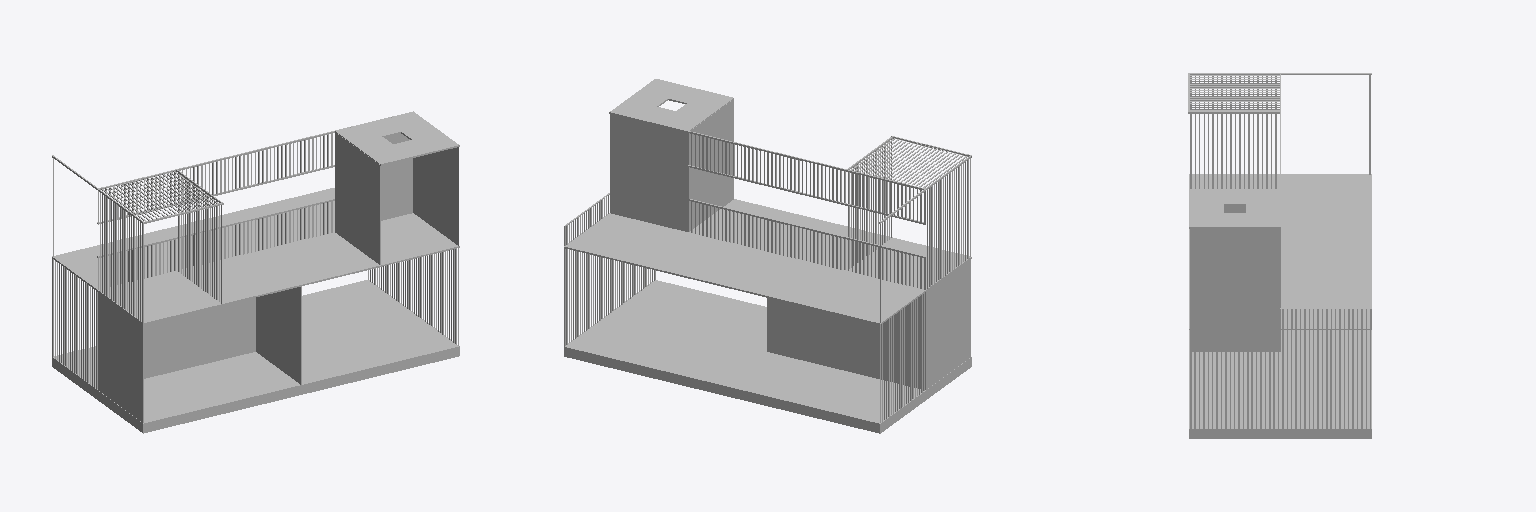
Rendered from shelf.obj.
The picture shows the model from 3 angles: view 1: azimuth 30°, elevation 25°; view 2: azimuth 150°, elevation 25°; view 3: azimuth 270°, elevation 25°; orthographic projection.
Parts seen in each view (by area): view 1: Cube, Cube.019, Cube.003, Cube.005, Cube.001, Cube.004, Cube.002, Cube.007, Cube.008, Cube.009, Cube.010, Cube.023 (+5 smaller); view 2: Cube, Cube.019, Cube.006, Cube.003, Cube.001, Cube.005, Cube.007, Cube.008, Cube.023, Cube.021, Cube.009, Cube.010 (+5 smaller); view 3: Cube.019, Cube, Cube.004, Cube.008, Cube.007, Cube.016, Cube.018, Cube.002, Cube.014.
Boxes of the visible parts, x1,y1,x2,y2 form: Cube: [52, 280, 459, 433]; Cube.019: [52, 188, 459, 324]; Cube.003: [144, 298, 255, 378]; Cube.005: [335, 132, 380, 264]; Cube.001: [98, 292, 143, 422]; Cube.004: [413, 147, 458, 245]; Cube.002: [256, 286, 301, 384]; Cube.007: [335, 112, 459, 165]; Cube.008: [368, 248, 458, 345]; Cube.009: [52, 259, 97, 388]; Cube.010: [100, 193, 143, 322]; Cube.023: [98, 134, 332, 222]; Cube: [564, 280, 971, 433]; Cube.019: [564, 199, 971, 324]; Cube.006: [610, 114, 688, 231]; Cube.003: [768, 296, 920, 388]; Cube.001: [925, 259, 970, 389]; Cube.005: [689, 99, 733, 231]; Cube.007: [610, 79, 733, 130]; Cube.008: [564, 248, 655, 346]; Cube.023: [691, 134, 925, 222]; Cube.021: [691, 202, 925, 289]; Cube.009: [880, 293, 924, 422]; Cube.010: [927, 158, 970, 288]; Cube.019: [1189, 174, 1371, 329]; Cube: [1189, 330, 1371, 438]; Cube.004: [1190, 228, 1279, 328]; Cube.008: [1190, 330, 1370, 428]; Cube.007: [1189, 189, 1279, 228]; Cube.016: [1190, 114, 1276, 188]; Cube.018: [1190, 75, 1279, 110]; Cube.002: [1192, 330, 1279, 351]; Cube.014: [1282, 309, 1371, 328].
Size of the model in its own units: 10.01 by 6.38 by 5.02.